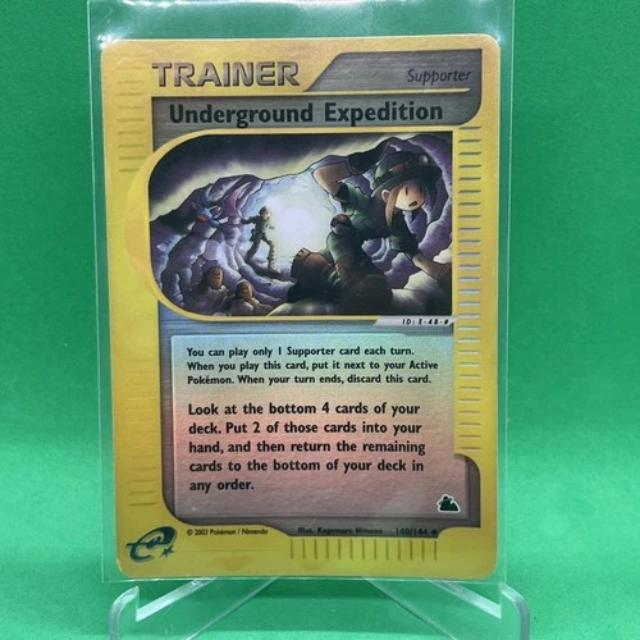Card: (93, 27, 508, 588)
Name: (160, 94, 449, 131)
